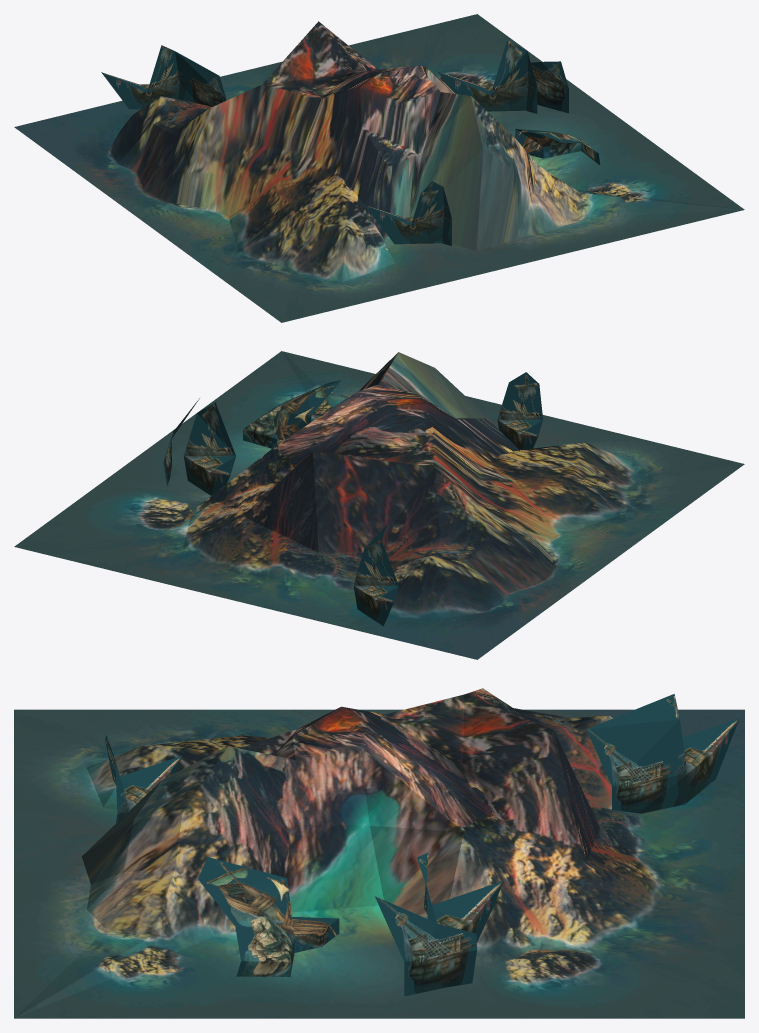
File: F_EventIsland_07.fbx
The picture shows the model from 3 angles, top to bottom: view 1: azimuth 30°, elevation 25°; view 2: azimuth 150°, elevation 25°; view 3: azimuth 270°, elevation 25°; orthographic projection. The views are drawn at different scales.
Visible parts, largest first — view 1: F_EventIsland_07; view 2: F_EventIsland_07; view 3: F_EventIsland_07.
Part boxes in pixels (box(x1,y1,x2,y2)): F_EventIsland_07: box(14, 14, 744, 322); F_EventIsland_07: box(14, 351, 744, 659); F_EventIsland_07: box(14, 688, 744, 1018).
Bounding box in the file's own units: 3.95 × 0.9737 × 3.95.
Materials: 1 (1 with a texture image).
